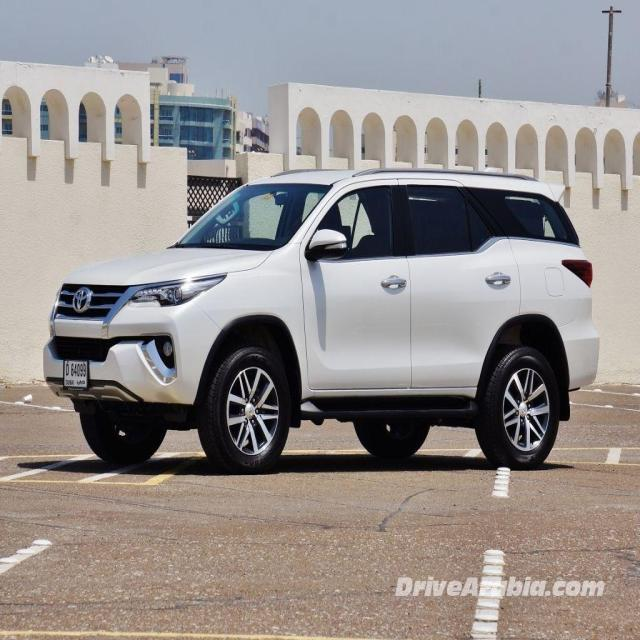light_vehicle: (42, 168, 600, 475)
